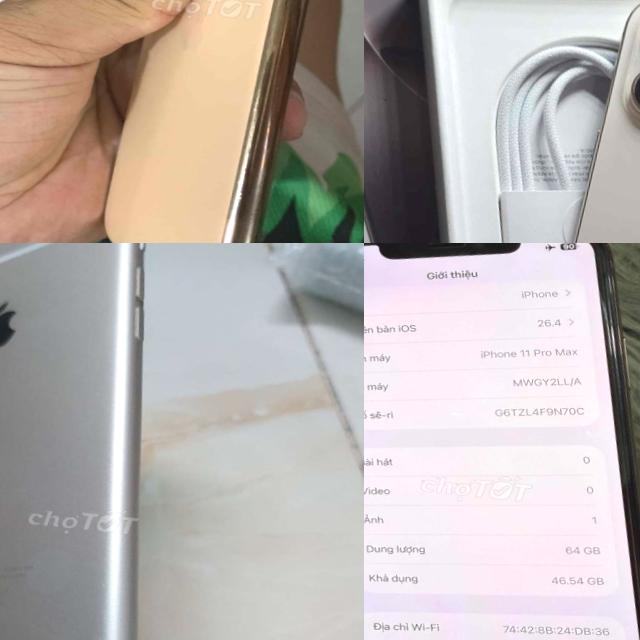gen_11: (364, 243, 640, 640), (72, 0, 357, 243)
gen_16: (515, 0, 640, 243)
gen_6: (0, 243, 206, 640)
